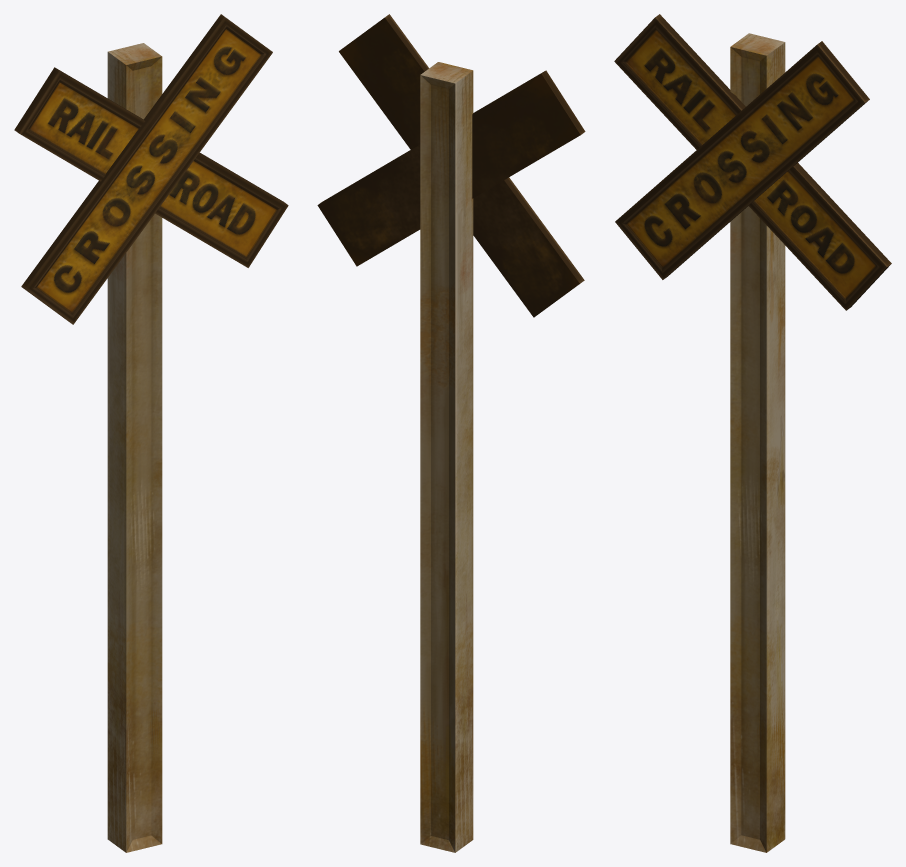
The model's file is RailroadCrossingSign_Scaled.fbx.
3 renders of one model, left to right at view 1: azimuth 30°, elevation 25°; view 2: azimuth 150°, elevation 25°; view 3: azimuth 330°, elevation 25°, orthographic. The views are drawn at different scales.
Parts seen in each view (by area): view 1: RailroadCrossing_Sign_Post, CrossingSign, RailroadSign; view 2: RailroadCrossing_Sign_Post, RailroadSign, CrossingSign; view 3: RailroadCrossing_Sign_Post, CrossingSign, RailroadSign.
Boxes of the visible parts, box(x1,y1,x2,y2) form: RailroadCrossing_Sign_Post: box(107, 43, 162, 852); CrossingSign: box(21, 14, 272, 324); RailroadSign: box(14, 67, 288, 267); RailroadCrossing_Sign_Post: box(420, 62, 473, 852); RailroadSign: box(317, 70, 585, 266); CrossingSign: box(339, 14, 584, 317); RailroadCrossing_Sign_Post: box(730, 33, 785, 852); CrossingSign: box(615, 41, 869, 279); RailroadSign: box(614, 14, 891, 310).
Bounding box in the file's own units: 101 × 294 × 16.53.
